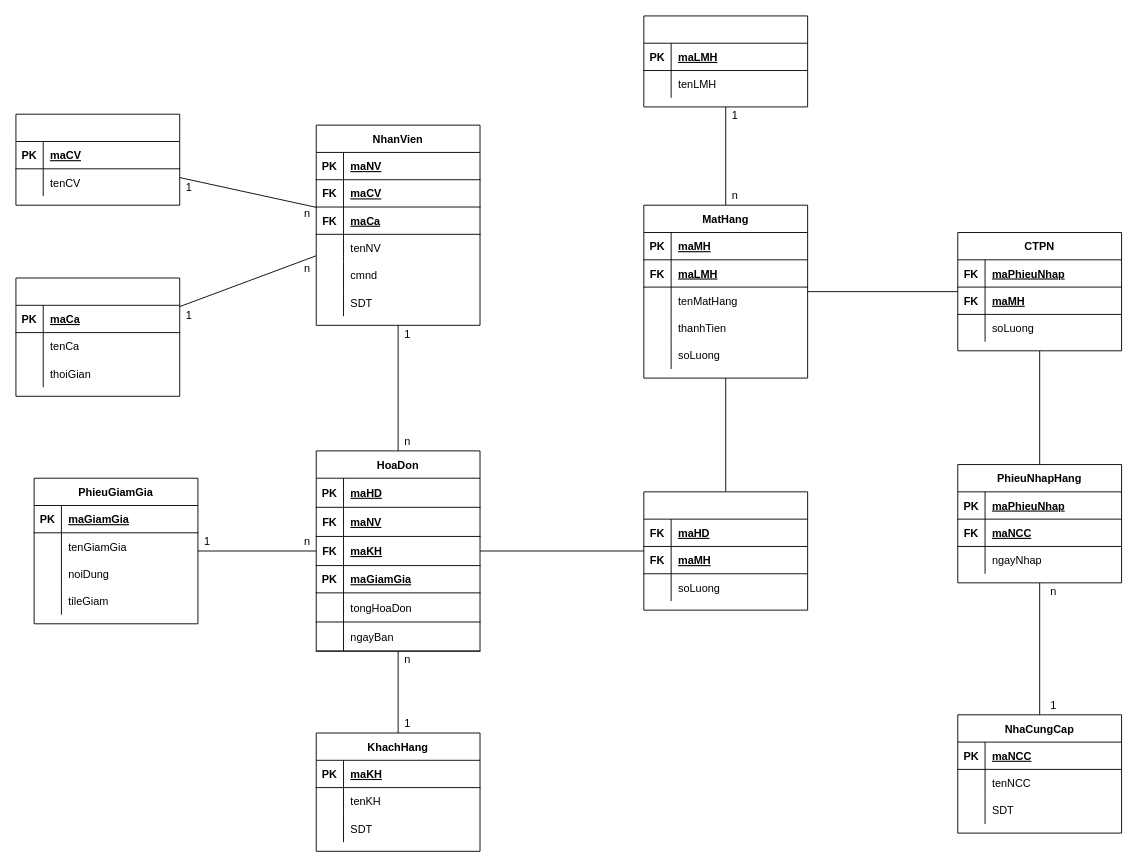
Image size: 1138x867. Some labels were removed from this diagram. Each missing label, with the box of its shape:
CaLamViec: (15, 277, 180, 396)
ChucVu: (15, 113, 180, 205)
CTHD: (643, 491, 808, 610)
LoaiMatHang: (643, 15, 808, 107)
